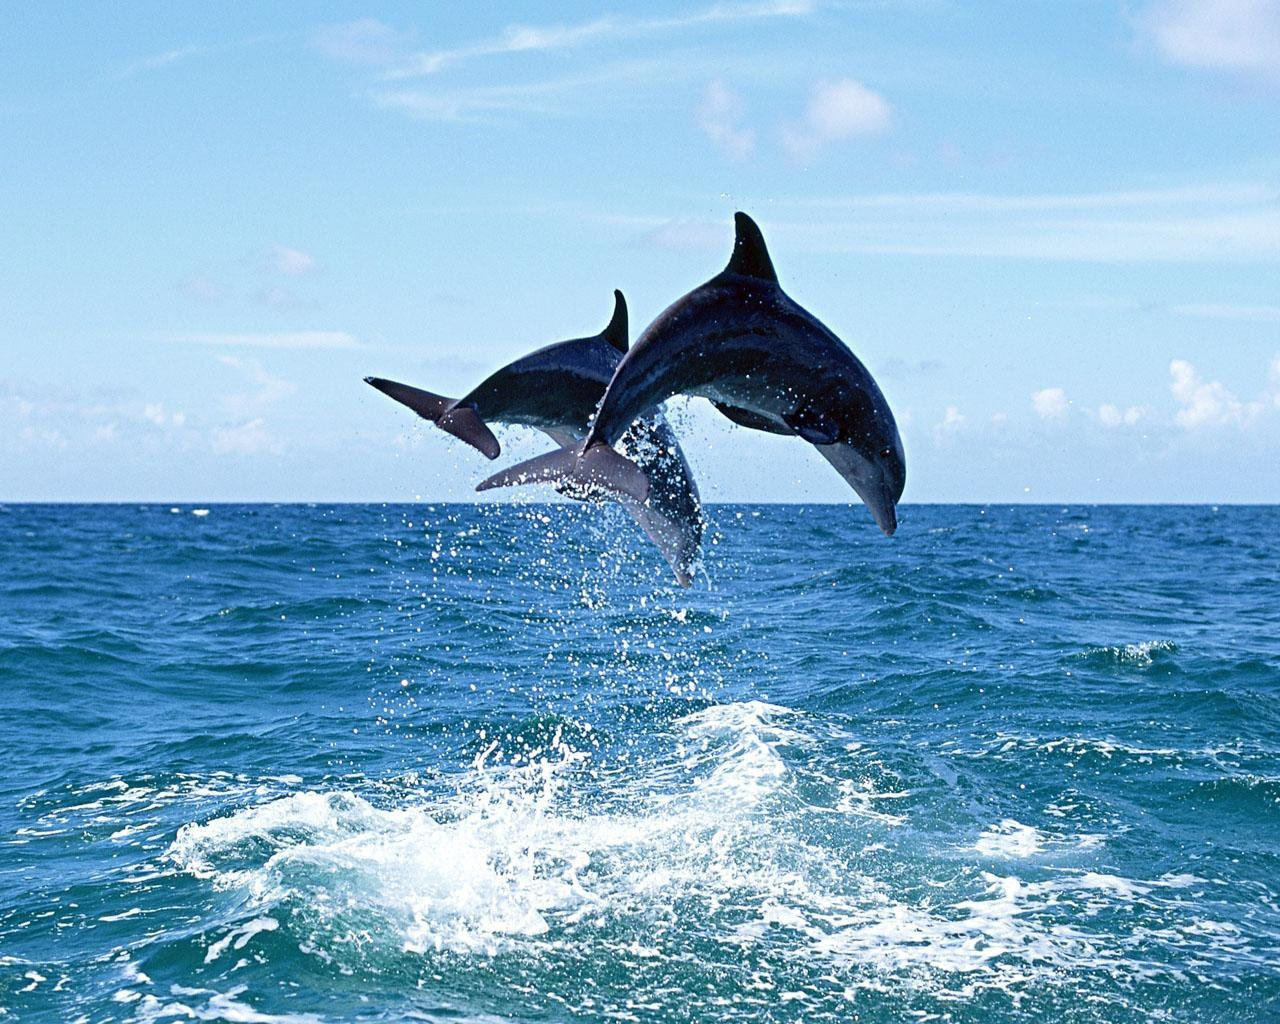fish: (474, 215, 939, 542), (359, 287, 702, 588)
